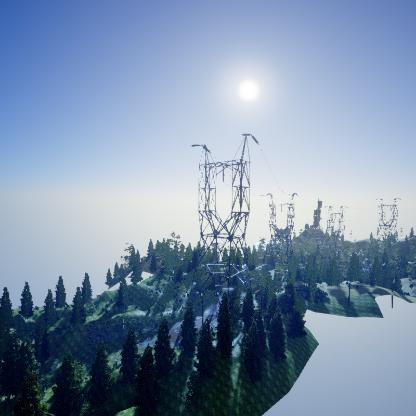tower: (188, 132, 262, 312), (264, 189, 300, 268)
